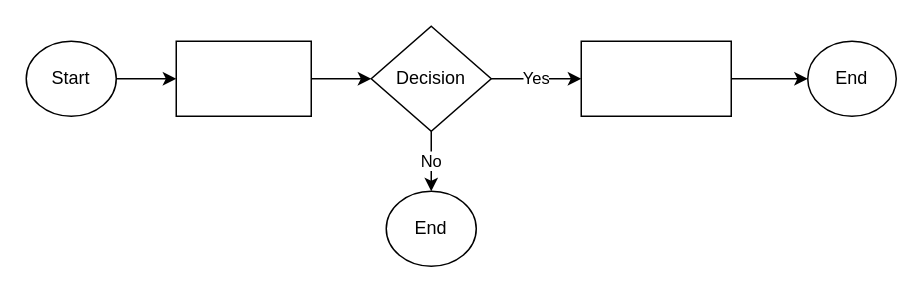
This 923x293 diagram has some shape labels left out. Here are the shapes that lost their labels. From the top down, the centre of each, then its label:
At pixel 243 78: "Task 1".
At pixel 655 78: "Task 2".
